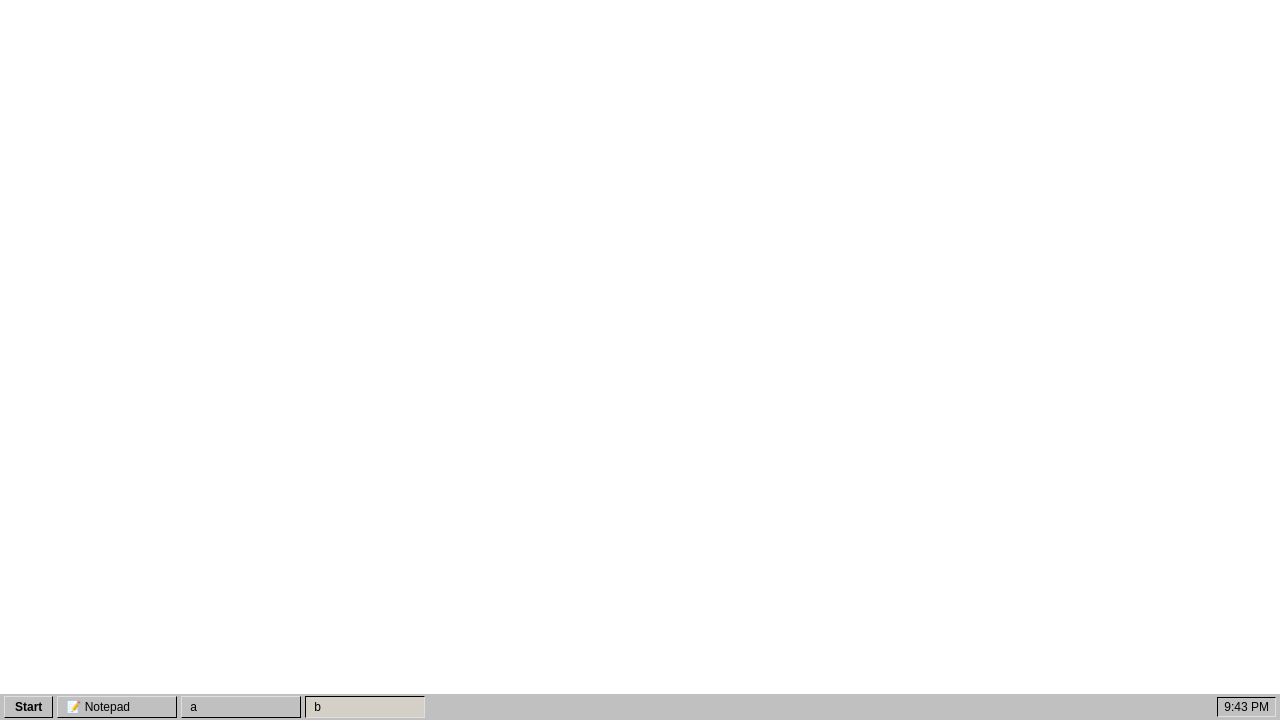
it: pinning › unpinning removes the launcher button
Right-click the button "📝 Notepad": (117, 707) top-left (57, 696), bottom-right (177, 718)
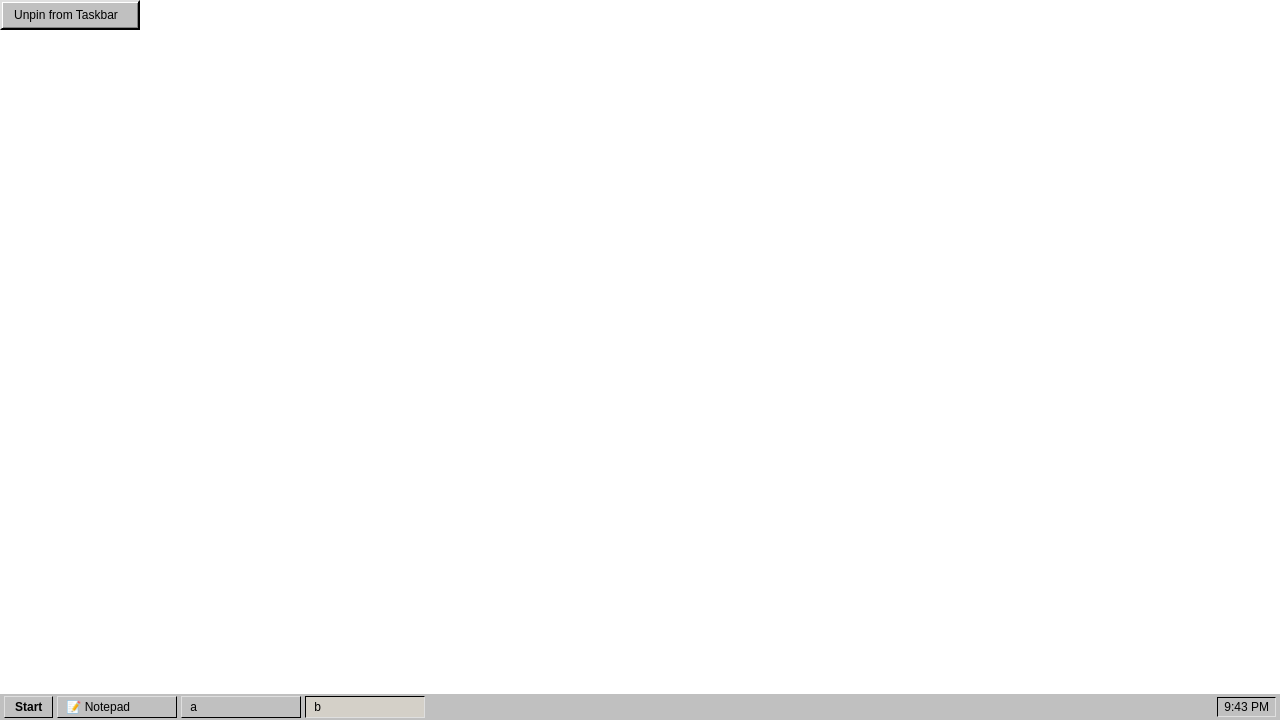
Click the menu item "Unpin from Taskbar": (70, 15) top-left (4, 4), bottom-right (136, 26)
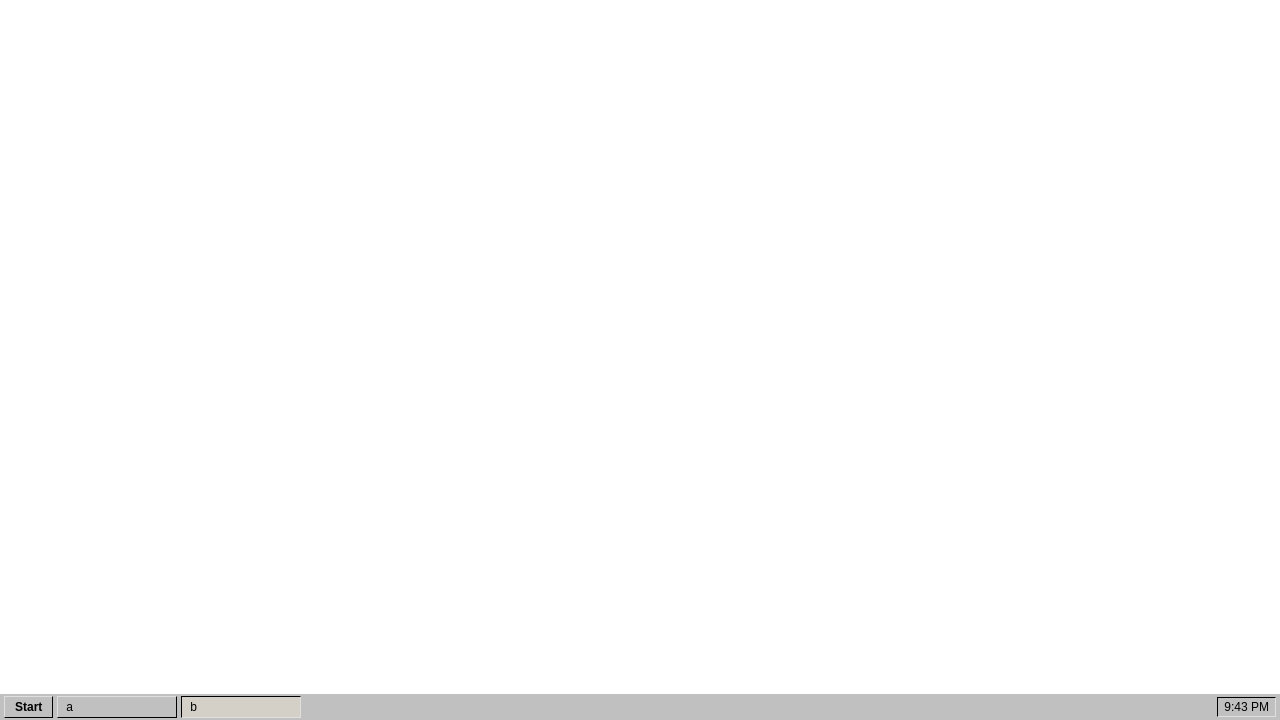
Expected: the button "Notepad" is gone
